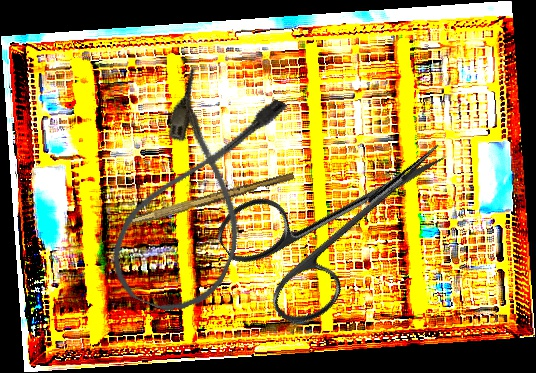Cannula: (99, 64, 294, 327)
Iris Scissors: (208, 91, 481, 340)
Scalpel Handle: (129, 168, 296, 230)
